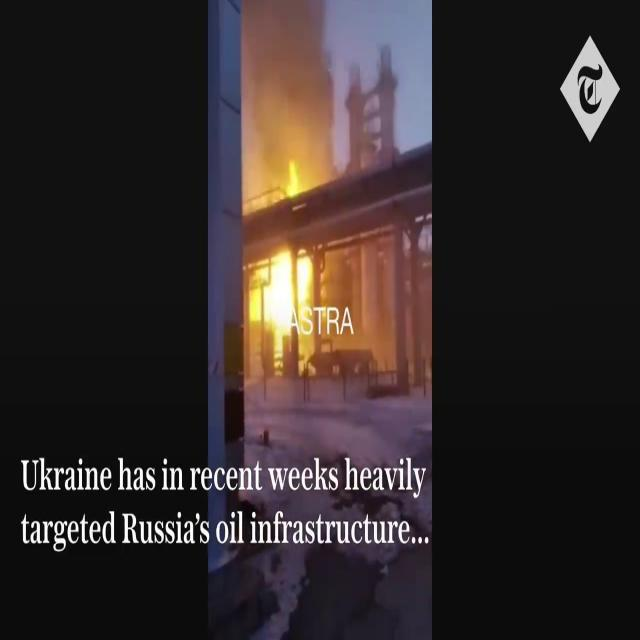Fire: (245, 152, 337, 372)
Smoke: (240, 0, 352, 177)
